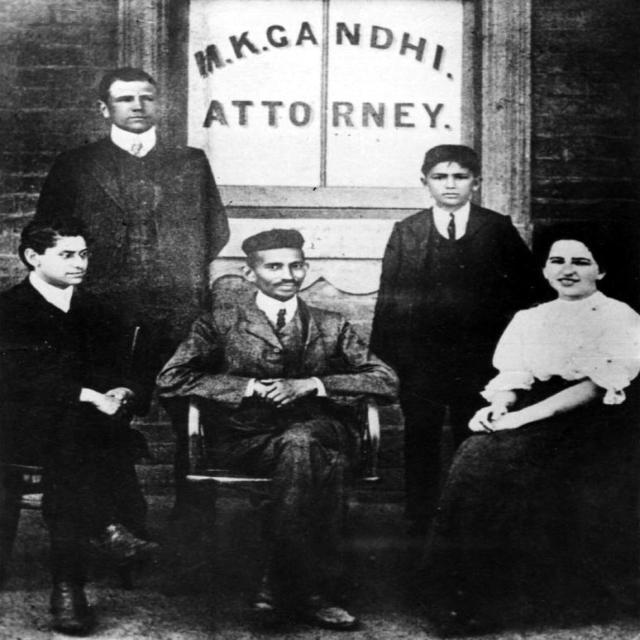body: (19, 63, 238, 572), (145, 222, 407, 636), (409, 220, 639, 640), (356, 136, 563, 567), (3, 218, 152, 636)
